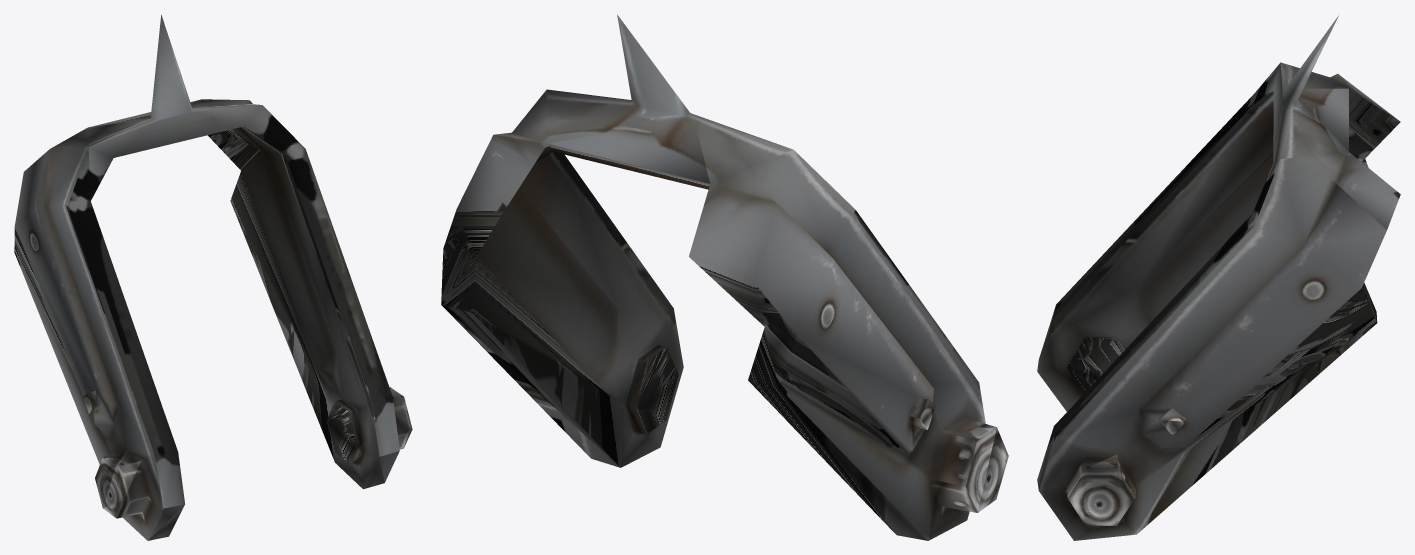
Rendered from tailwheel_fork.glb.
The picture shows the model from 3 angles, left to right: view 1: azimuth 30°, elevation 25°; view 2: azimuth 150°, elevation 25°; view 3: azimuth 270°, elevation 25°; orthographic projection. The views are drawn at different scales.
Visible parts, largest first — view 1: tripo_node_21af038d-0326-4c5d-9ef4-ba62f.002; view 2: tripo_node_21af038d-0326-4c5d-9ef4-ba62f.002; view 3: tripo_node_21af038d-0326-4c5d-9ef4-ba62f.002.
Part boxes in pixels (bbox=[...]): tripo_node_21af038d-0326-4c5d-9ef4-ba62f.002: bbox=[14, 15, 412, 540]; tripo_node_21af038d-0326-4c5d-9ef4-ba62f.002: bbox=[441, 14, 1008, 540]; tripo_node_21af038d-0326-4c5d-9ef4-ba62f.002: bbox=[1037, 15, 1400, 540].
Bounding box in the file's own units: 0.3921 × 0.5337 × 0.3753.
1 material, 1 textured.
